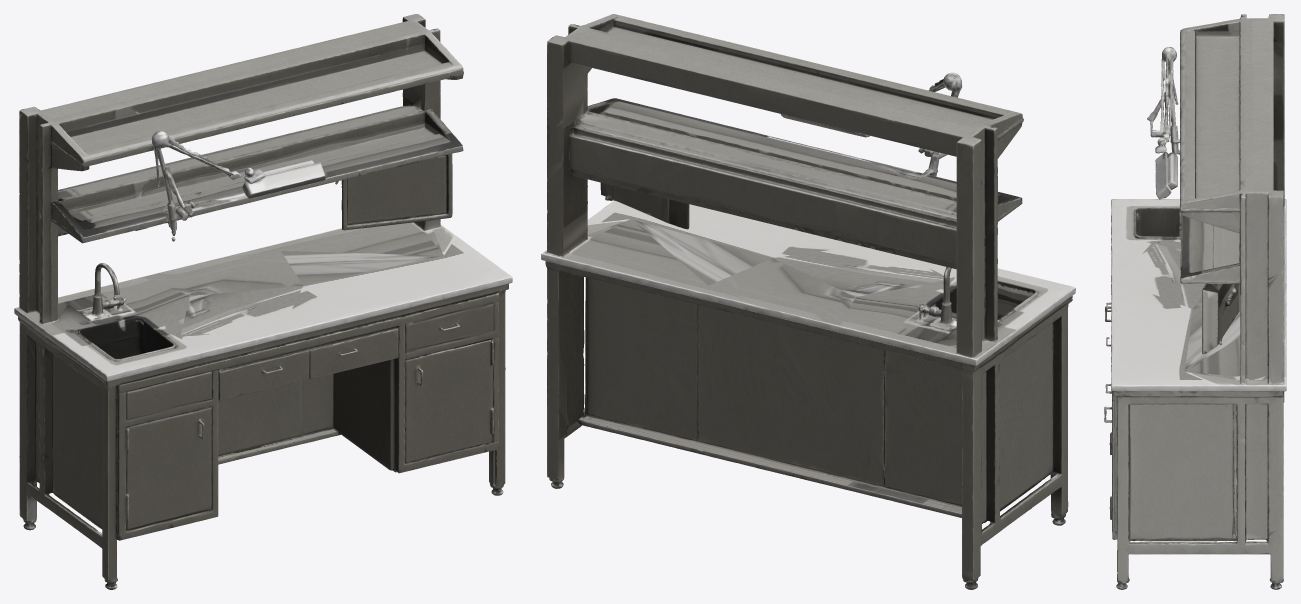
Rendered from Props_LaboratoryWorkbench.fbx.
The picture shows the model from 3 angles, left to right: view 1: azimuth 30°, elevation 25°; view 2: azimuth 150°, elevation 25°; view 3: azimuth 270°, elevation 25°; orthographic projection. The views are drawn at different scales.
Visible parts, largest first — view 1: Props_LaboratoryWorkbench; view 2: Props_LaboratoryWorkbench; view 3: Props_LaboratoryWorkbench.
Boxes of the visible parts, x1,y1,x2,y2 form: Props_LaboratoryWorkbench: (14,14,512,589); Props_LaboratoryWorkbench: (541,14,1075,589); Props_LaboratoryWorkbench: (1104,14,1286,589).
Bounding box in the file's own units: 99.98 × 98.97 × 41.18.
